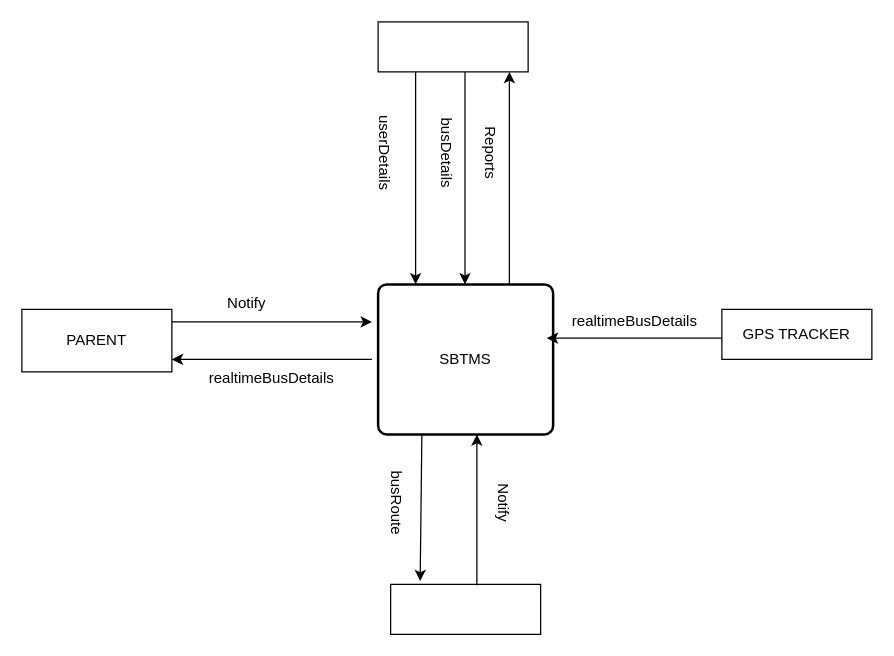
Some shapes in this 894 by 656 pixel diagram are drawn without their labels. Each missing label, with the centre of its shape:
"DRIVER" goes at (465,608).
"SCHOOL ADMIN" goes at (452,46).
